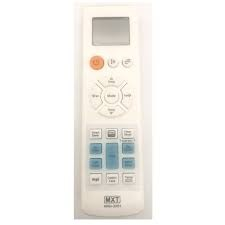remote control: (82, 6, 145, 215)
